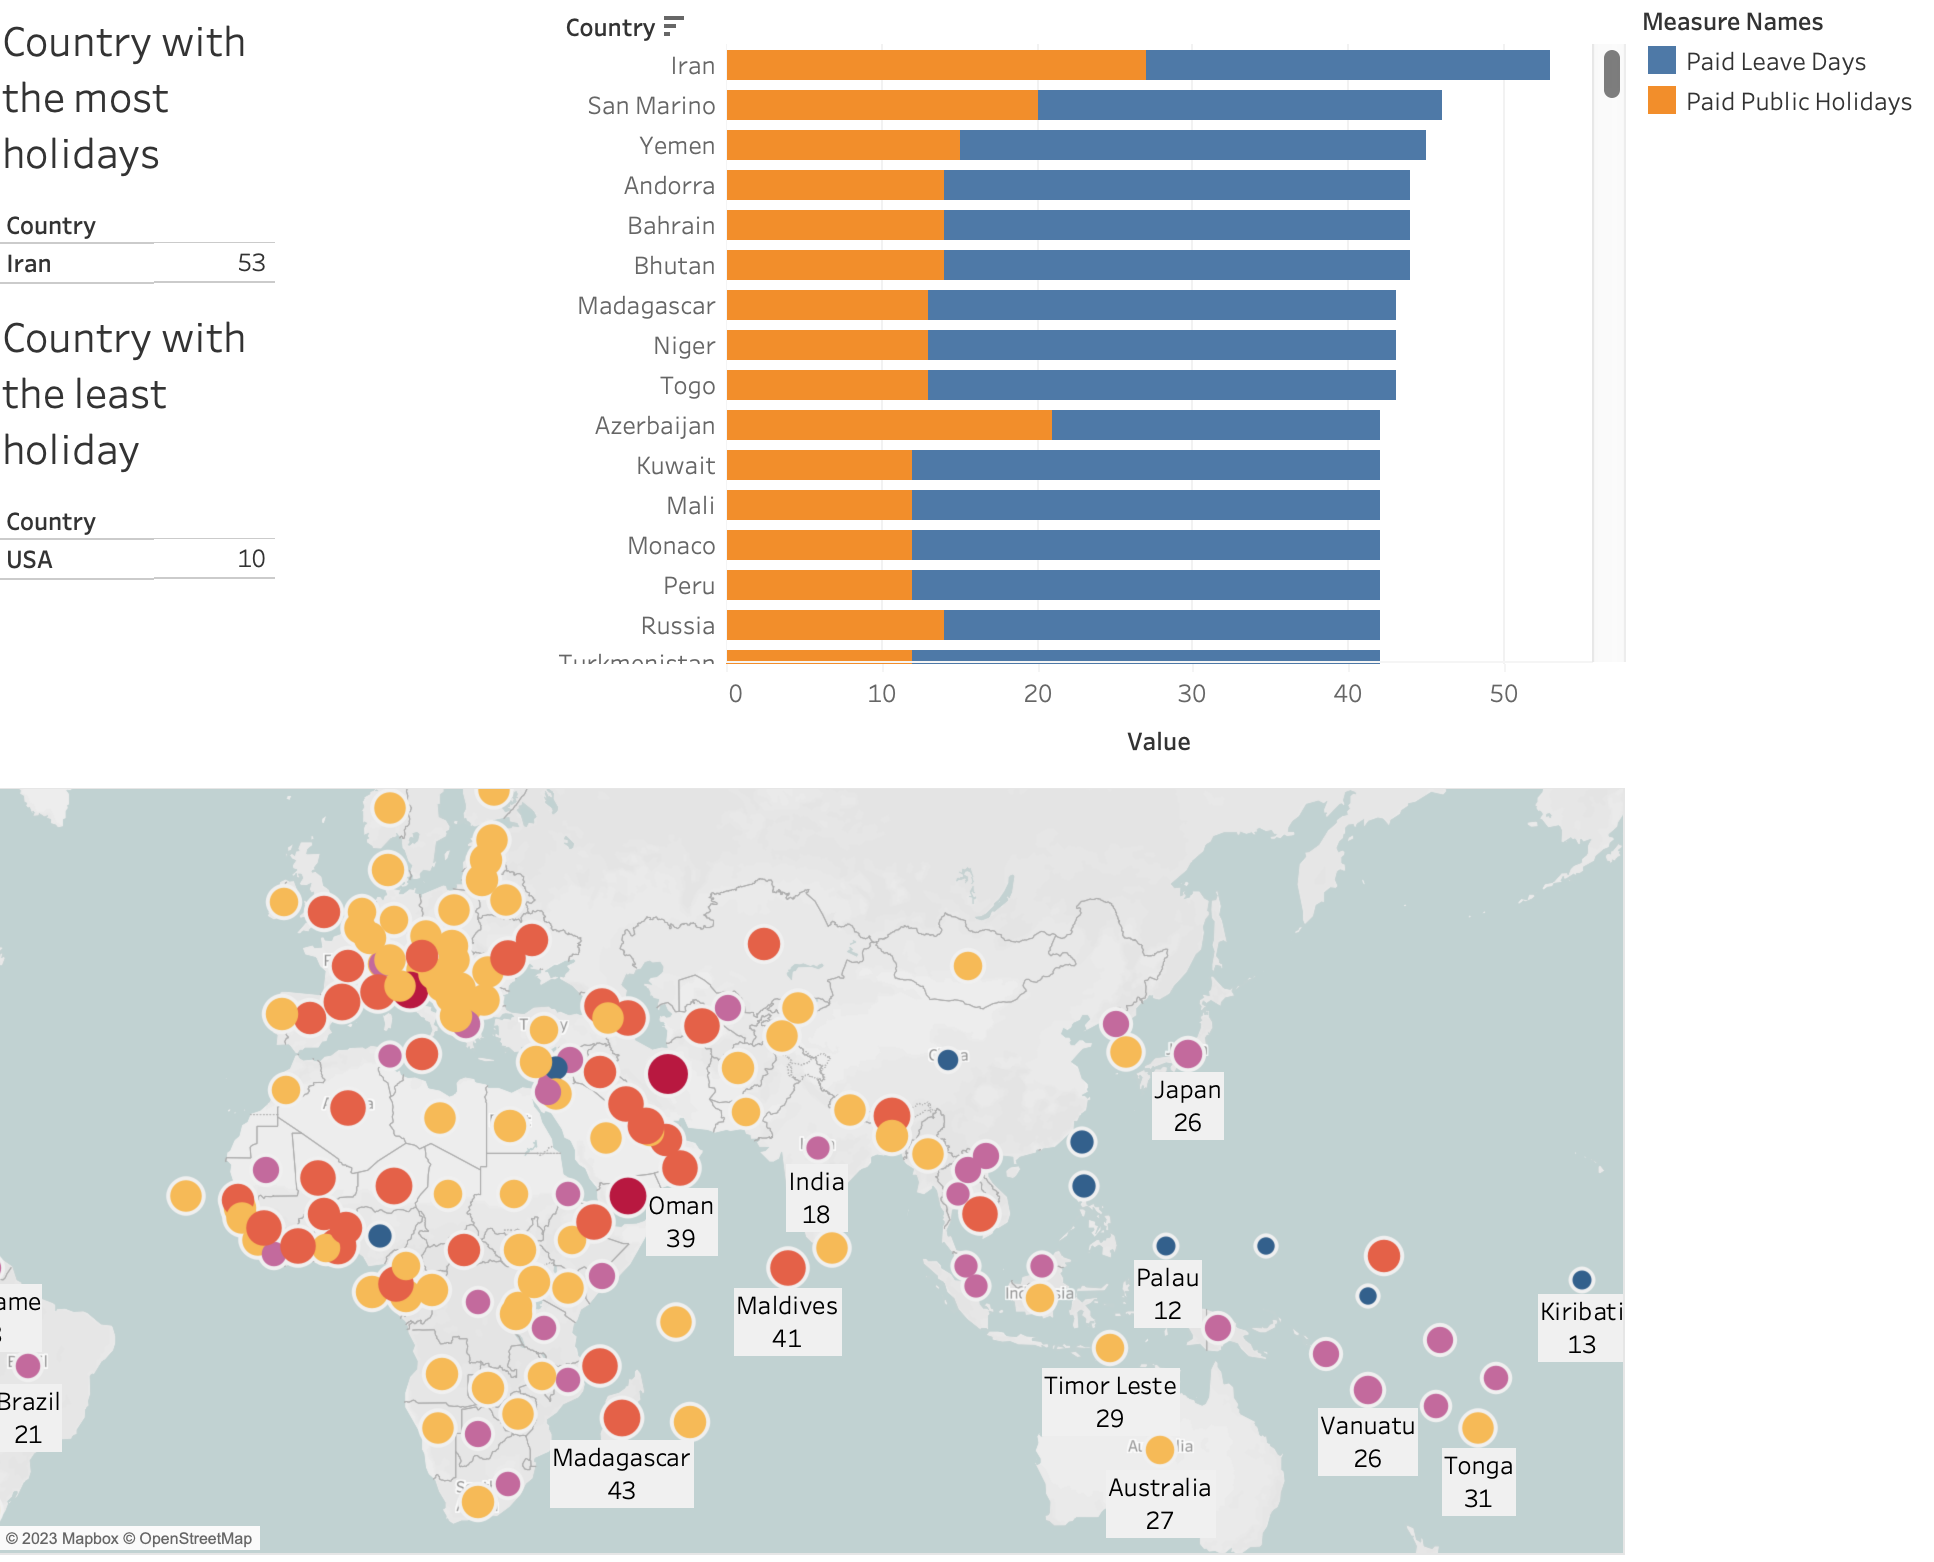

The page's visual inventory and layout, read from the dashboard file:
{"tool":"tableau","page":{"name":"Dashborad of Holidays","canvas":[1000,800],"ordinal":0},"visuals":[{"type":"worksheet","title":"Country with the most holidays","mark":"Automatic","rows":["Country"],"box":[8,8,206,148]},{"type":"worksheet","title":"Paid leave vs public days","mark":"Automatic","rows":["Country"],"box":[214,8,618,392]},{"type":"legend","title":"Paid leave vs public days","param":"[federated.0695s0p0w2kex71azl8c91xai1qb].[:Measure Names]","box":[832,8,160,66]},{"type":"worksheet","title":"Country with the least holiday","mark":"Automatic","rows":["Country"],"box":[8,156,206,148]},{"type":"worksheet","title":"Map of paid holidays by country","mark":"Circle","box":[8,400,824,392]}]}

Visuals, with their boxes in screenshot pixels (x1, y1, x2, y2), scaled from the page's 1000x800 canvas onto the 1934x1562 screenshot:
"Country with the most holidays" worksheet: left=15, top=16, right=414, bottom=305
"Paid leave vs public days" worksheet: left=414, top=16, right=1609, bottom=781
"Paid leave vs public days" legend: left=1609, top=16, right=1919, bottom=144
"Country with the least holiday" worksheet: left=15, top=305, right=414, bottom=594
"Map of paid holidays by country" worksheet (Circle marks): left=15, top=781, right=1609, bottom=1546
